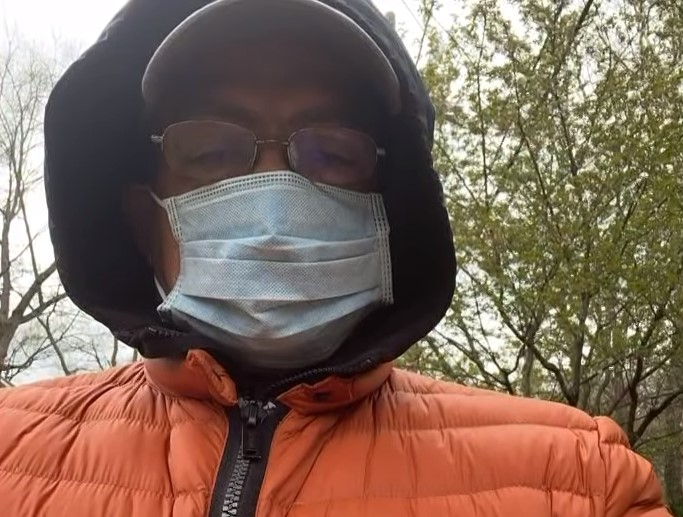face_with_mask: (124, 6, 431, 380)
